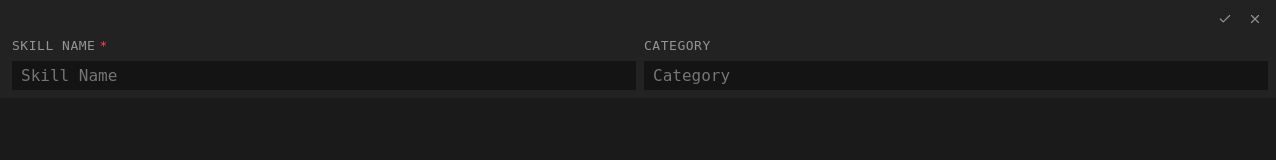
Test: EntryForm › uses skillSchema for skill forms
Step 1. Click the button named "save" → (1225, 19), box [1212,8,1238,30]
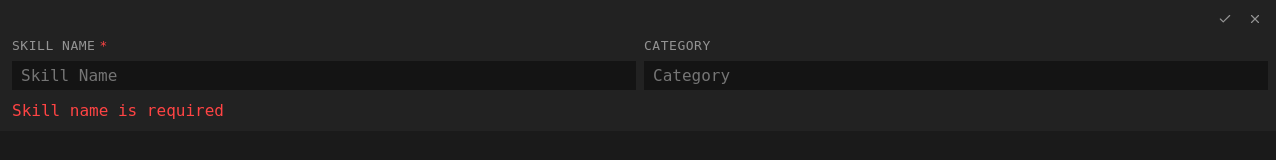
Expected: the text "Skill name is required" is shown, [12,101,224,120]
